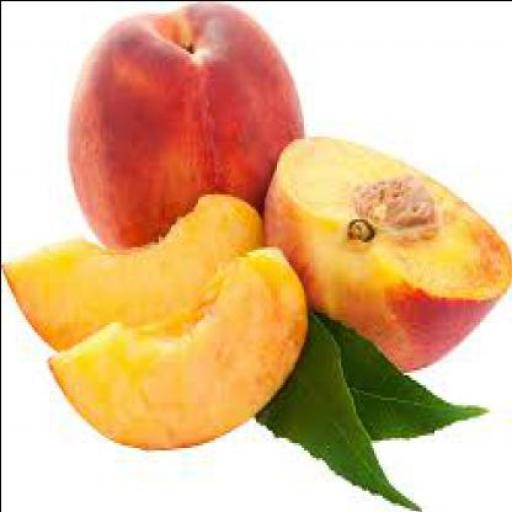biodegradable: (65, 1, 303, 256), (264, 135, 510, 373), (49, 240, 309, 450), (2, 194, 270, 351), (254, 309, 424, 507), (350, 309, 489, 442)
